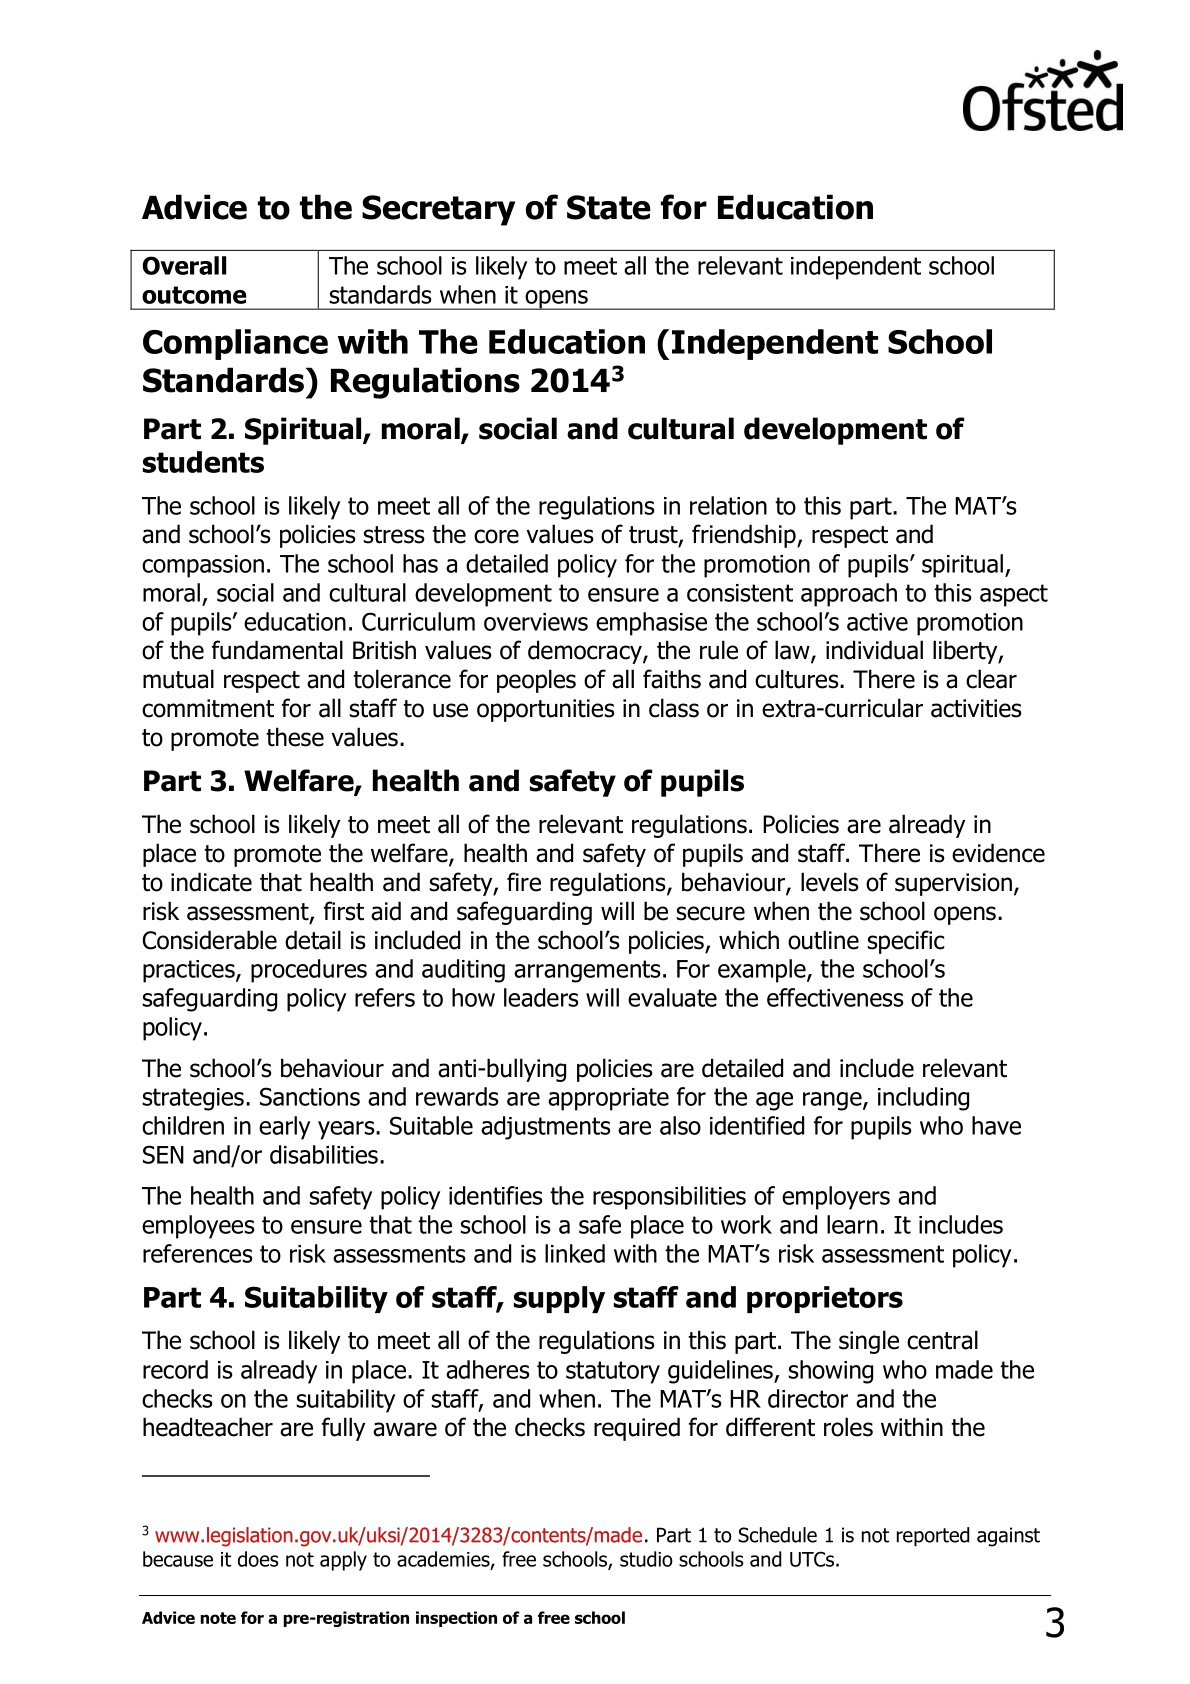full_lined: (129, 248, 1056, 312)
